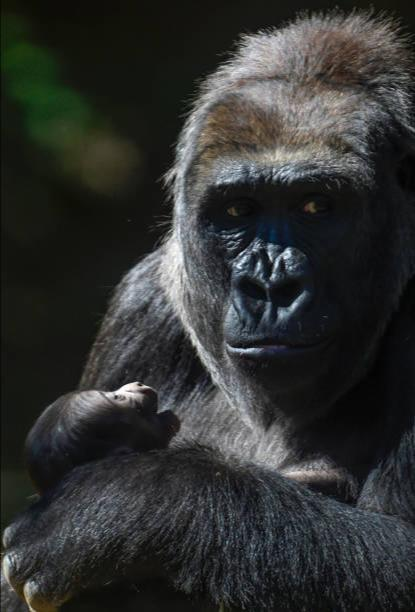gorille_Autres: (3, 0, 415, 598)
